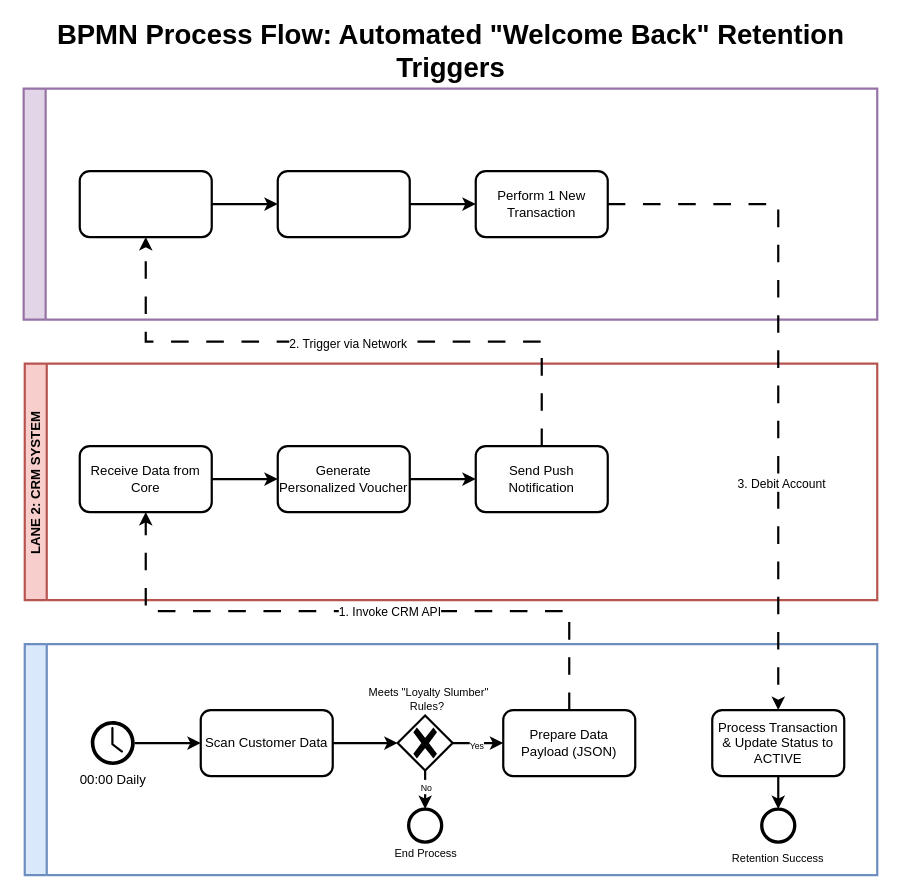
Image size: 901x894. Some labels were removed from this diagram. The shapes that lost their labels are listed below. From the top down, each one's box as (x1, y1, x2, y2) in pixels, then its label:
(78, 169, 212, 238): Receive Push Notification
(276, 169, 410, 238): Tap to Open App
(22, 87, 878, 320): LANE 1: CUSTOMER (Mobile App)
(23, 642, 878, 876): LANE 3: CORE BANKING
